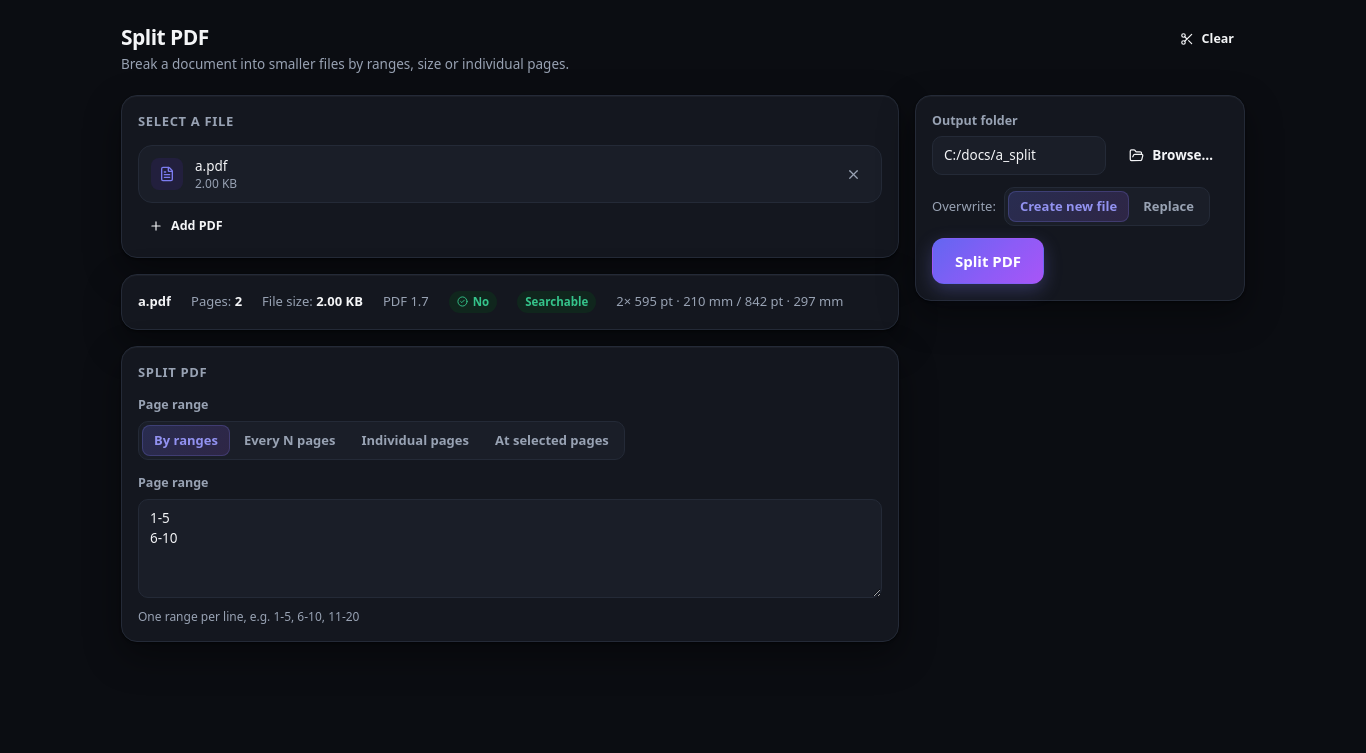
Test: PDF tool screens call their backend with the request envelope › runs the default ranges split through split_pdf and lists the parts
Step 1. Click the button "Split PDF" → (988, 261), box [932,238,1044,284]
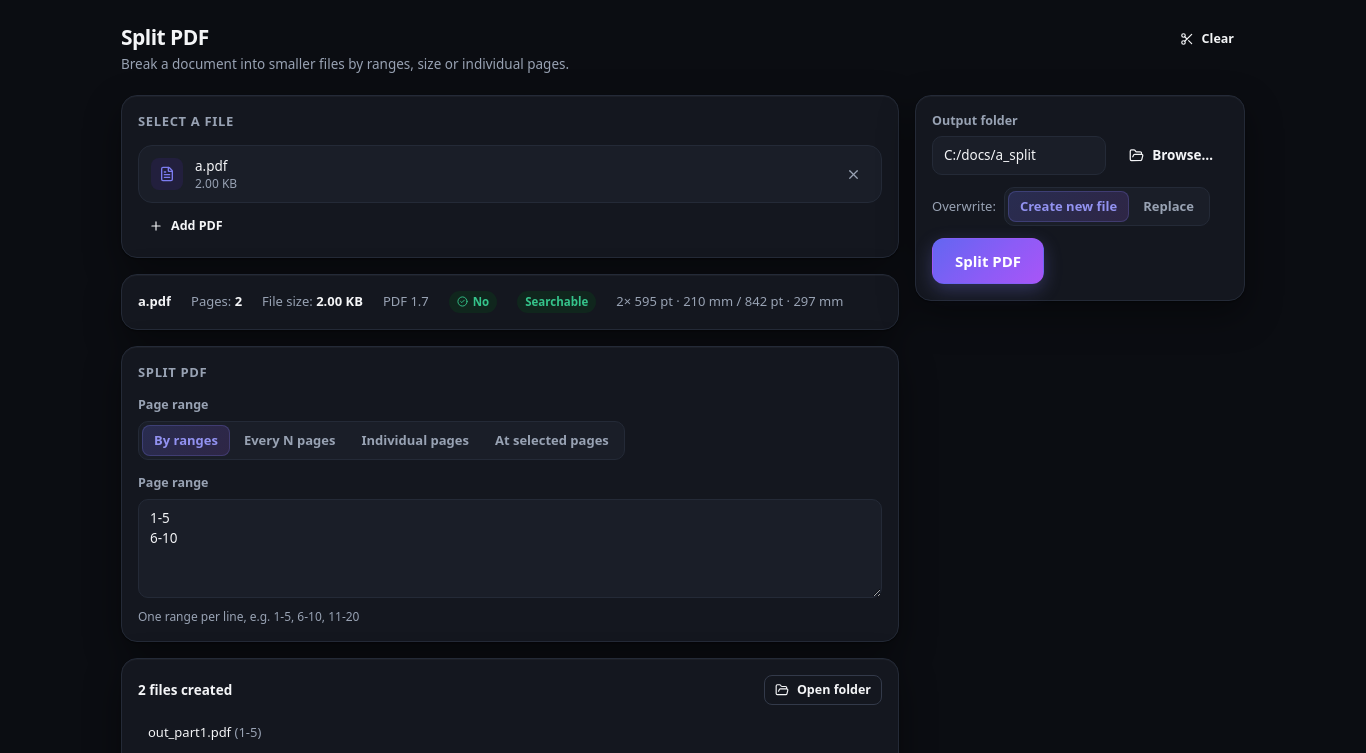
Expected: the button "out_part1.pdf (1-5)" is shown, [138,717,882,748]
